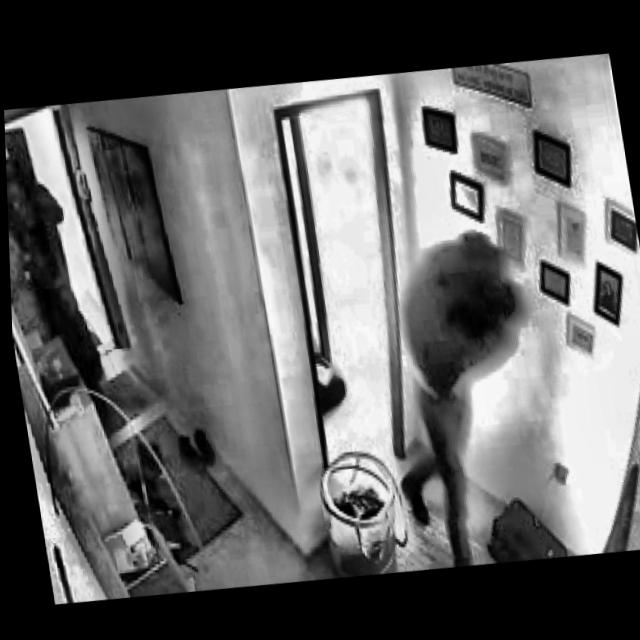burglary: (356, 212, 570, 570)
